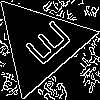E: (15, 19, 74, 74)
